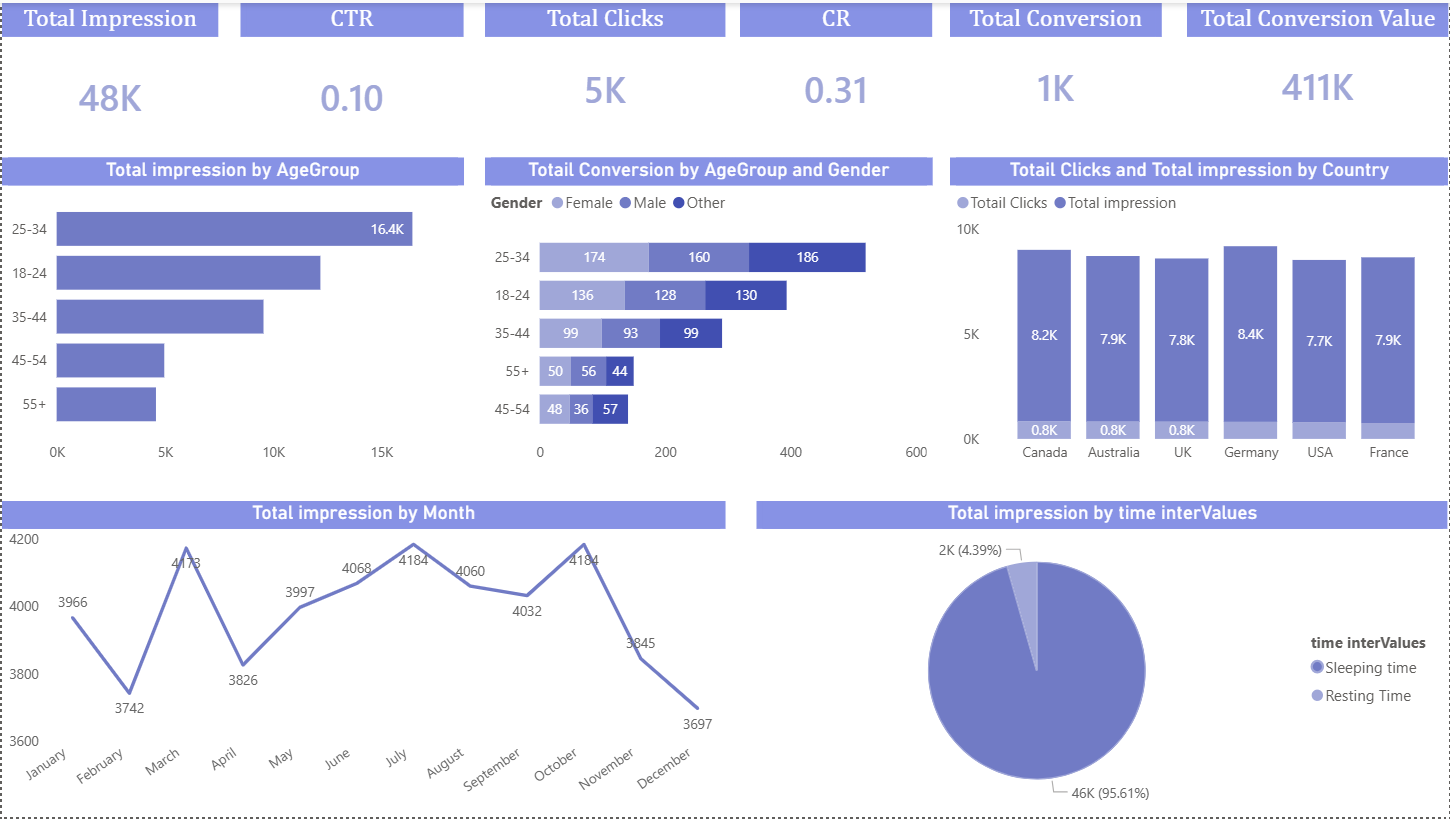

The dashboard page shown, as its layout file describes it:
{"tool":"powerbi","page":{"name":"DashBoard","canvas":[1280,720],"ordinal":0},"visuals":[{"type":"cardVisual","title":"Total Impression","fields":{"Data":["My measure.Total impression"]},"box":[0,0,191.4,137.1],"z":0},{"type":"cardVisual","title":"CTR","fields":{"Data":["My measure.CTR"]},"box":[211.4,0,197.1,137.1],"z":1000},{"type":"cardVisual","title":"Total Clicks","fields":{"Data":["My measure.Totail Clicks"]},"box":[427.1,0,212.9,124.3],"z":2000},{"type":"cardVisual","title":"CR","fields":{"Data":["My measure.CR"]},"box":[652.9,0,170,124.3],"z":3000},{"type":"cardVisual","title":"Total Conversion","fields":{"Data":["My measure.Totail Conversion"]},"box":[838.6,0,187.1,120],"z":4000},{"type":"cardVisual","title":"Total Conversion Value ","fields":{"Data":["My measure.Total Converation value"]},"box":[1047.8,0,231.7,119.6],"z":5000},{"type":"barChart","fields":{"Y":["My measure.Total impression"],"Category":["FitBitDataMarketing.AgeGroup"]},"box":[0,137.1,408.6,278.6],"z":6000},{"type":"columnChart","fields":{"Y":["My measure.Totail Clicks","My measure.Total impression"],"Category":["FitBitDataMarketing.Country"]},"box":[838.6,137.1,441.4,278.6],"z":7000},{"type":"lineChart","fields":{"Category":["FitBitDataMarketing.DateTime.Variation.Date Hierarchy.Month"],"Y":["My measure.Total impression"]},"box":[0,440,640,280],"z":8000},{"type":"pieChart","fields":{"Y":["My measure.Total impression"],"Category":["FitBitDataMarketing.time interValues"]},"box":[667.8,440,612.2,280],"z":9000},{"type":"barChart","fields":{"Y":["My measure.Totail Conversion"],"Category":["FitBitDataMarketing.AgeGroup"],"Series":["FitBitDataMarketing.Gender"]},"box":[427.1,137.1,395.7,278.6],"z":10000}]}

Visuals, with their boxes in screenshot pixels (x1, y1, x2, y2), scaled from the page's 1280x720 canvas onto the 1450x819 screenshot:
"Total Impression" cardVisual: bbox=(0, 0, 217, 156)
"CTR" cardVisual: bbox=(239, 0, 463, 156)
"Total Clicks" cardVisual: bbox=(484, 0, 725, 141)
"CR" cardVisual: bbox=(740, 0, 932, 141)
"Total Conversion" cardVisual: bbox=(950, 0, 1162, 136)
"Total Conversion Value " cardVisual: bbox=(1187, 0, 1449, 136)
barChart - My measure.Total impression x FitBitDataMarketing.AgeGroup: bbox=(0, 156, 463, 473)
columnChart - My measure.Totail Clicks x My measure.Total impression: bbox=(950, 156, 1449, 473)
lineChart - FitBitDataMarketing.DateTime.Variation.Date Hierarchy.Month x My measure.Total impression: bbox=(0, 500, 725, 818)
pieChart - My measure.Total impression x FitBitDataMarketing.time interValues: bbox=(756, 500, 1449, 818)
barChart - My measure.Totail Conversion x FitBitDataMarketing.AgeGroup: bbox=(484, 156, 932, 473)
